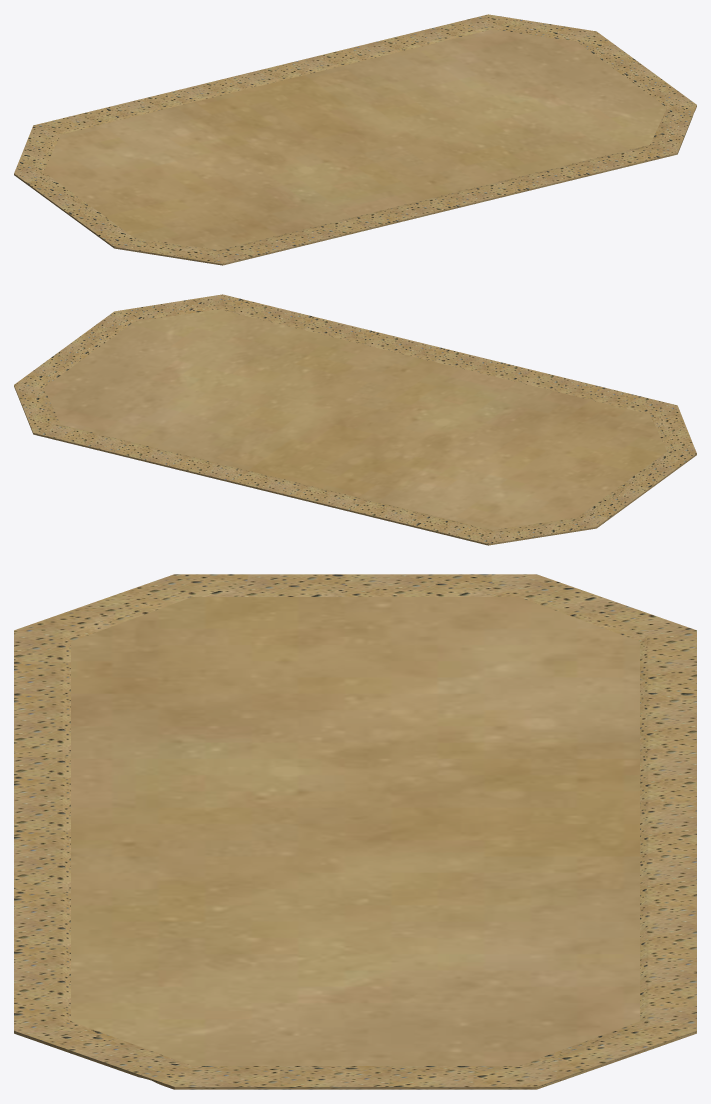
The model's file is KudaKepangStage.fbx.
3 views of the same model, one above another, from view 1: azimuth 30°, elevation 25°; view 2: azimuth 150°, elevation 25°; view 3: azimuth 270°, elevation 25° (orthographic). The views are drawn at different scales.
Visible parts, largest first — view 1: Body_04; view 2: Body_04; view 3: Body_04.
Boxes of the visible parts, box(x1,y1,x2,y2) form: Body_04: box(14, 14, 696, 265); Body_04: box(14, 294, 696, 545); Body_04: box(14, 574, 696, 1089).
Bounding box in the file's own units: 2879 × 7.5 × 1621.
Materials: 1 (1 with a texture image).
